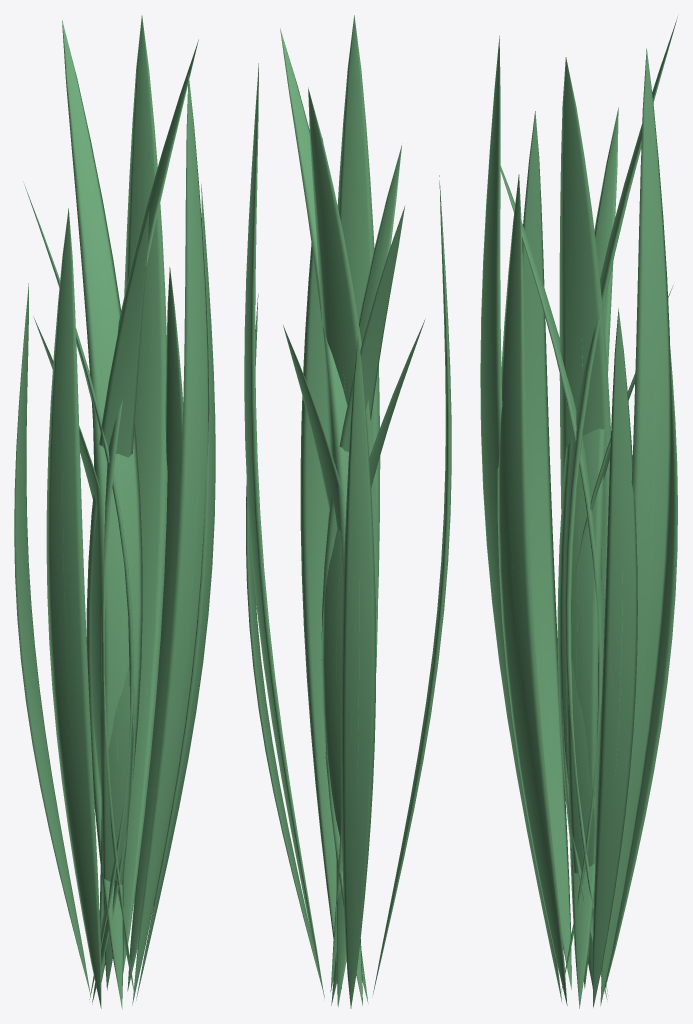
File: Vallisneria.fbx
3 renders of one model, left to right at view 1: azimuth 30°, elevation 25°; view 2: azimuth 150°, elevation 25°; view 3: azimuth 270°, elevation 25°, orthographic. The views are drawn at different scales.
Visible parts, largest first — view 1: Vallisneria | leaves, Vallisneria | veins; view 2: Vallisneria | leaves; view 3: Vallisneria | leaves, Vallisneria | veins.
Part boxes in pixels (x1,y1,x2,y2): Vallisneria | leaves: (14,15,215,1009); Vallisneria | veins: (62,367,213,779); Vallisneria | leaves: (244,15,451,1008); Vallisneria | leaves: (480,16,677,1008); Vallisneria | veins: (487,331,655,797).
Bounding box in the file's own units: 28.92 × 155 × 28.33.
